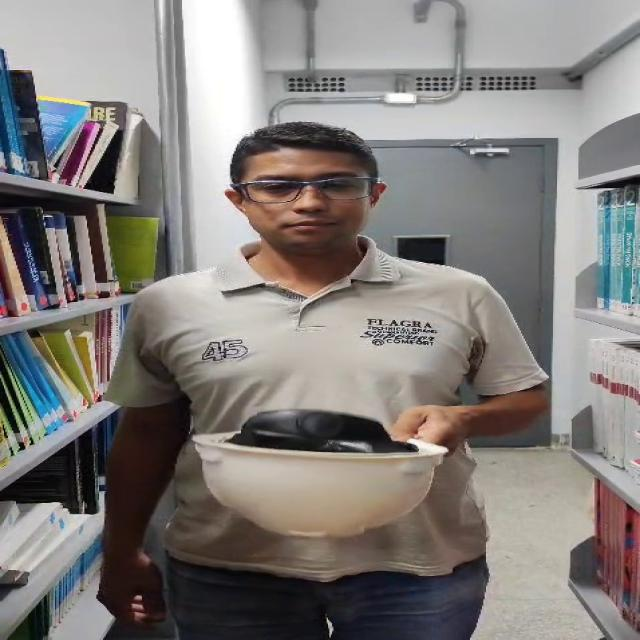sem_capacete: (190, 107, 418, 274)
